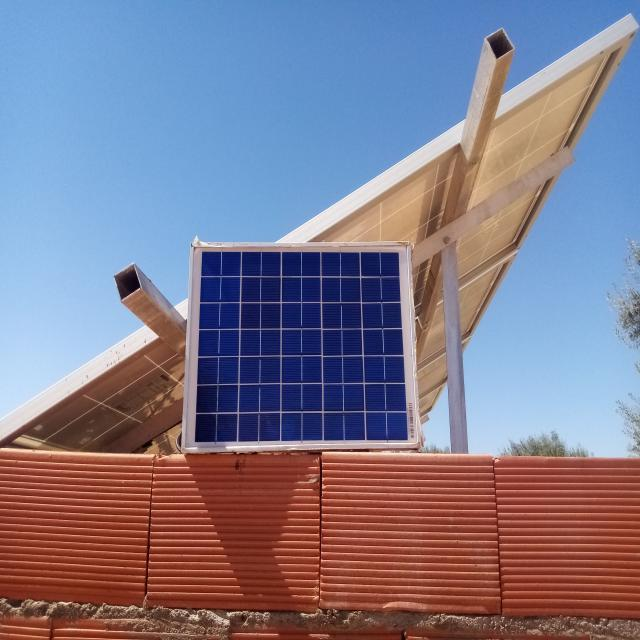no faulty: (182, 243, 420, 449)
